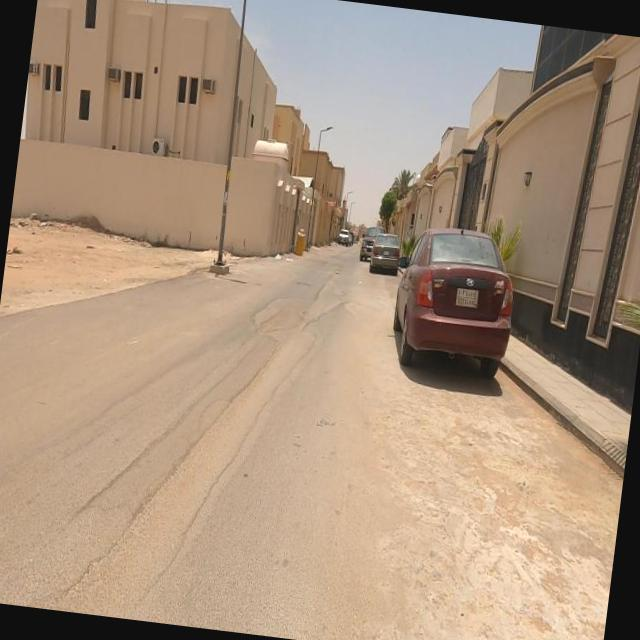debris: (254, 229, 308, 281), (283, 209, 318, 252)
